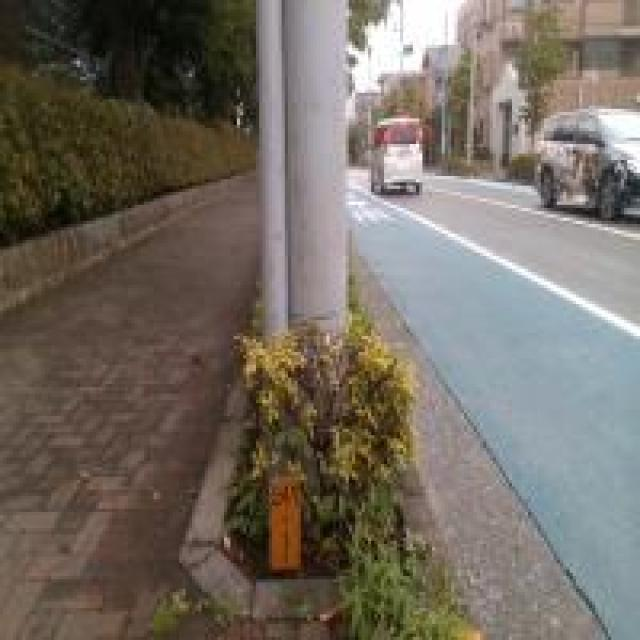Automobile: (535, 109, 639, 219), (370, 119, 422, 193)
Obstacle: (230, 0, 459, 639)
Road: (350, 178, 639, 639), (355, 260, 604, 639)
Sidewalk: (0, 180, 257, 639)
